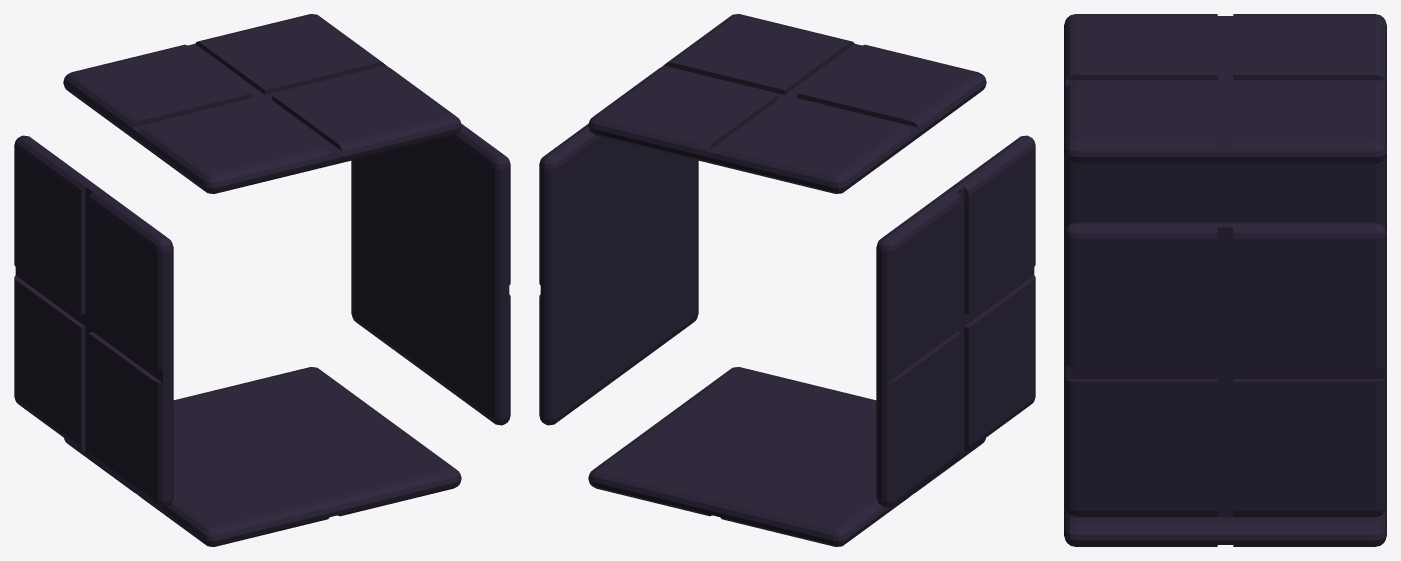
File: armor.glb
3 views of the same model, side by side, from view 1: azimuth 30°, elevation 25°; view 2: azimuth 150°, elevation 25°; view 3: azimuth 270°, elevation 25° (orthographic). The views are drawn at different scales.
Parts seen in each view (by area): view 1: armor_plates; view 2: armor_plates; view 3: armor_plates.
Boxes of the visible parts, x1,y1,x2,y2 form: armor_plates: [14, 14, 510, 546]; armor_plates: [539, 14, 1035, 546]; armor_plates: [1064, 14, 1386, 546].
Size of the model in its own units: 1.16 by 1.16 by 0.84.
